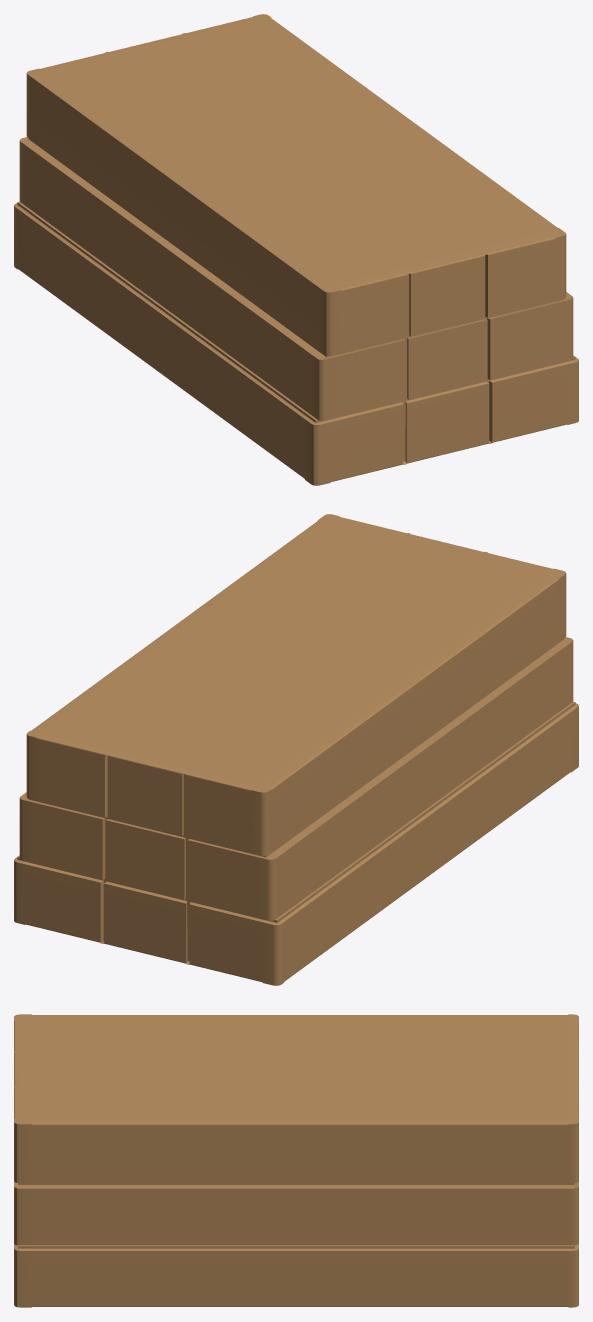
File: Copper.fbx
3 views of the same model, one above another, from view 1: azimuth 30°, elevation 25°; view 2: azimuth 150°, elevation 25°; view 3: azimuth 270°, elevation 25° (orthographic). The views are drawn at different scales.
Parts seen in each view (by area): view 1: Copper; view 2: Copper; view 3: Copper.
Part boxes in pixels (bbox=[...]): Copper: bbox=[14, 14, 578, 485]; Copper: bbox=[14, 514, 578, 985]; Copper: bbox=[14, 1014, 578, 1307].
Size of the model in its own units: 0.8632 by 0.5878 by 1.7.
